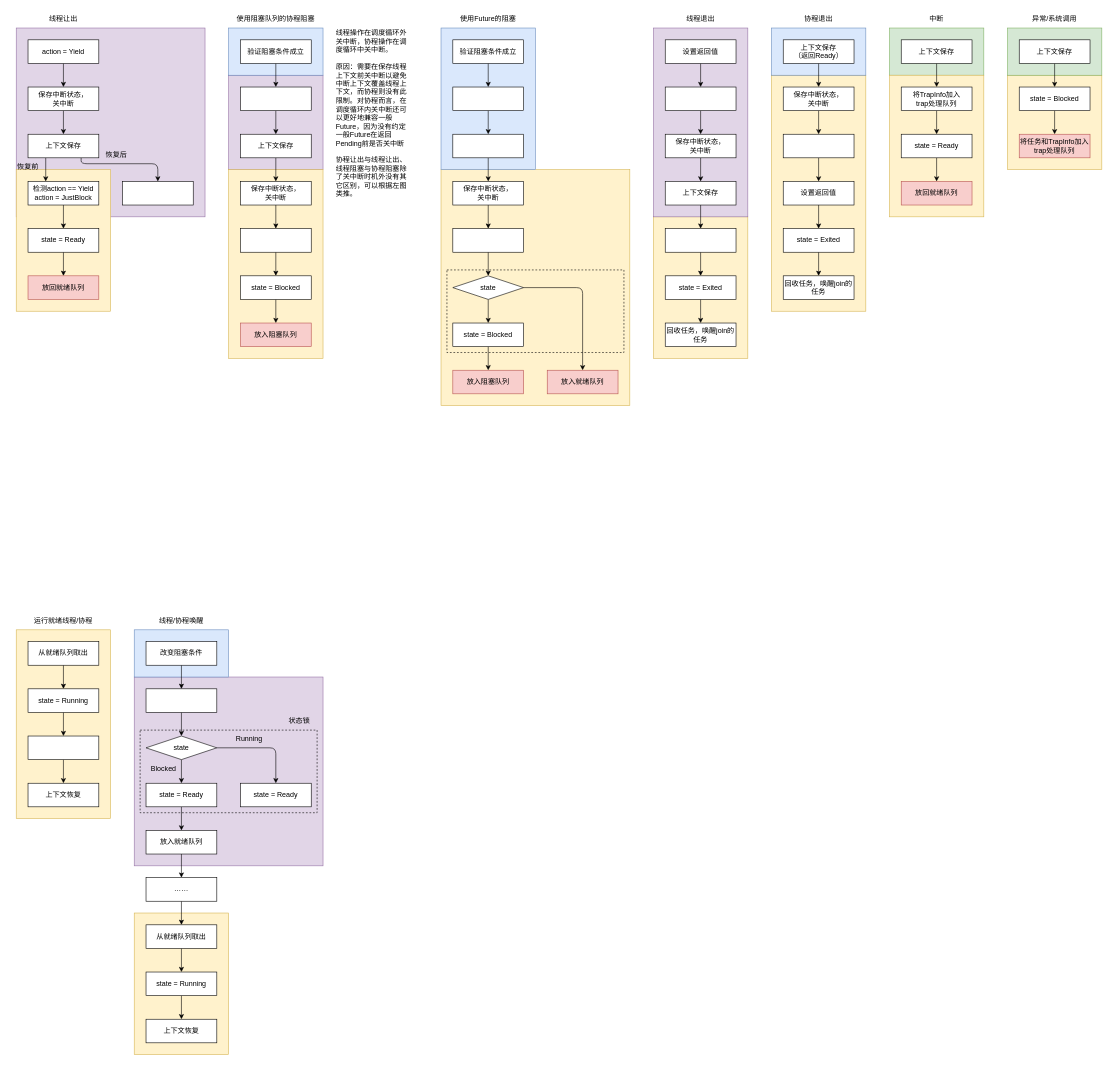
This 1112x1065 diagram has some shape labels left out. Each missing label, with the centre of its shape:
action = Block(wait_queue_id): point 275,98
action = Exit: point 700,98
上下文保存 （返回Pending）: point 488,146
从阻塞队列取出: point 181,700
恢复中断状态: point 157,193
检测action == Block(wait_queue_id) action = JustBlock: point 275,240
检测action == Exit action = JustBlock: point 700,240
检测action == JustBlock: point 488,240
检测协程返回Ready: point 818,146
注册Waker: point 488,98
若为协程， 恢复中断状态: point 63,747
